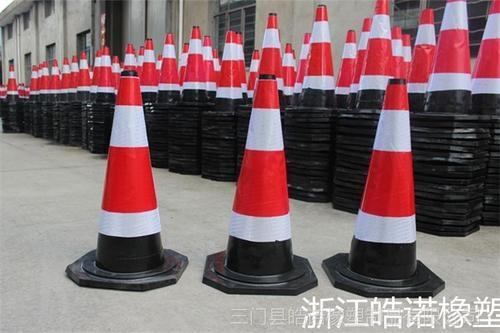cone_barrel: (79, 64, 176, 282), (209, 65, 304, 285), (339, 77, 432, 292), (417, 10, 487, 235), (426, 2, 473, 103), (354, 2, 394, 108), (299, 3, 337, 104), (406, 10, 437, 100), (468, 7, 495, 108), (252, 15, 283, 89), (216, 30, 246, 99), (179, 27, 206, 100), (89, 47, 111, 135), (155, 28, 179, 102), (333, 29, 357, 99), (75, 50, 91, 136), (199, 33, 217, 92), (139, 35, 157, 87), (279, 41, 295, 92), (95, 48, 110, 102), (105, 51, 116, 94), (109, 54, 120, 92), (48, 57, 59, 88), (122, 41, 136, 65), (59, 56, 69, 88), (400, 31, 410, 61), (69, 54, 78, 86), (391, 31, 401, 59), (39, 61, 48, 87)
